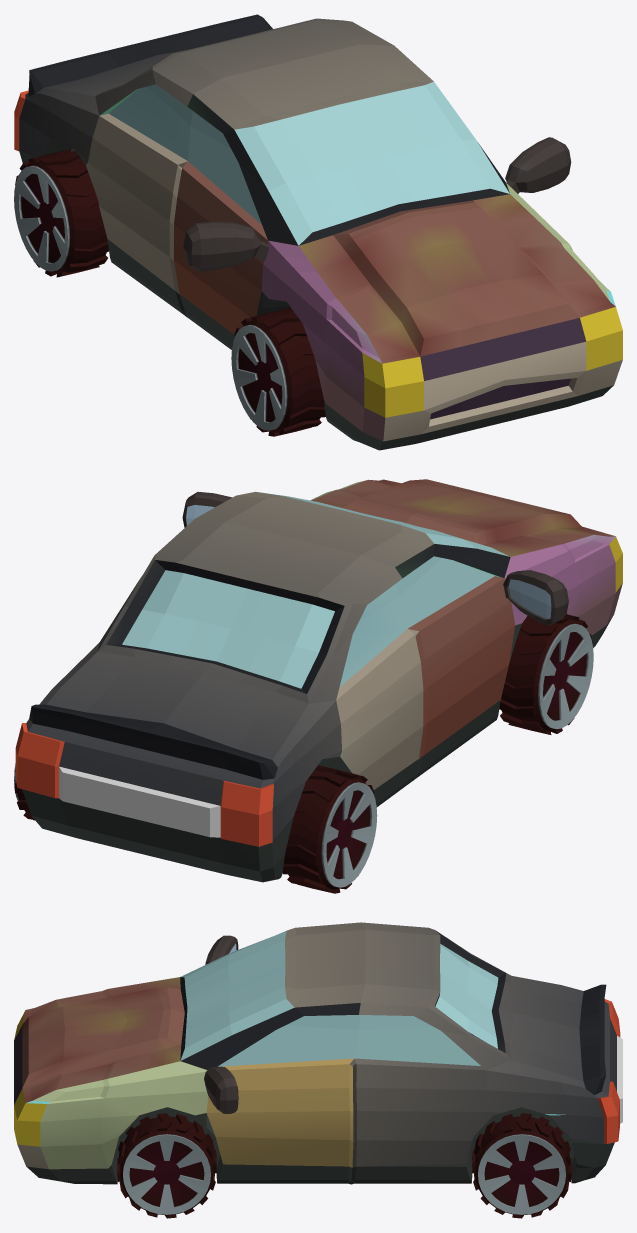
File: машинка 9.fbx
3 renders of one model, top to bottom at view 1: azimuth 30°, elevation 25°; view 2: azimuth 150°, elevation 25°; view 3: azimuth 270°, elevation 25°, orthographic. The views are drawn at different scales.
Parts seen in each view (by area): view 1: Car2.007, Cylinder.001, Cylinder, Zerk2.007; view 2: Car2.007, Cylinder.001, Cylinder, Zerk2.007; view 3: Car2.007, Cylinder.003, Cylinder.002, Zerk2.007.
Boxes of the visible parts, bbox=[...] form: Car2.007: bbox=[14, 14, 622, 450]; Cylinder.001: bbox=[14, 149, 108, 277]; Cylinder: bbox=[231, 308, 325, 436]; Zerk2.007: bbox=[183, 137, 571, 271]; Car2.007: bbox=[15, 479, 622, 882]; Cylinder.001: bbox=[282, 765, 377, 893]; Cylinder: bbox=[499, 614, 593, 734]; Zerk2.007: bbox=[182, 491, 568, 625]; Car2.007: bbox=[14, 922, 622, 1184]; Cylinder.003: bbox=[117, 1113, 216, 1218]; Cylinder.002: bbox=[472, 1113, 571, 1218]; Zerk2.007: bbox=[204, 935, 238, 1113].
Size of the model in its own units: 355 by 218 by 601.
